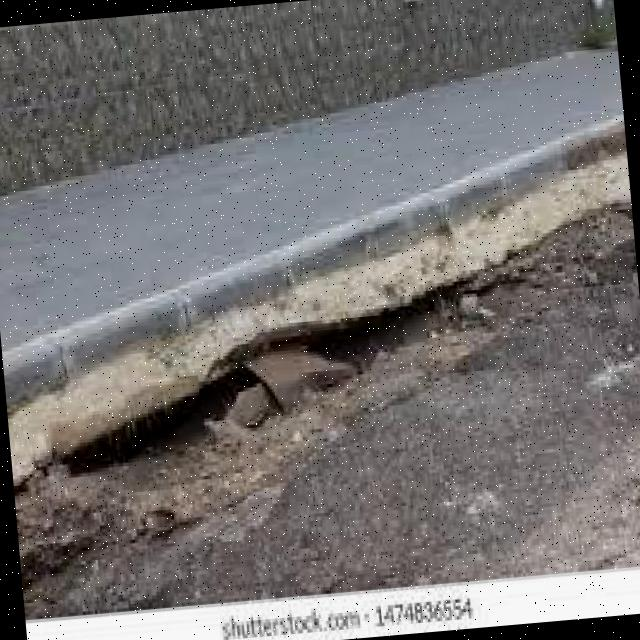curb: (3, 121, 608, 412)
